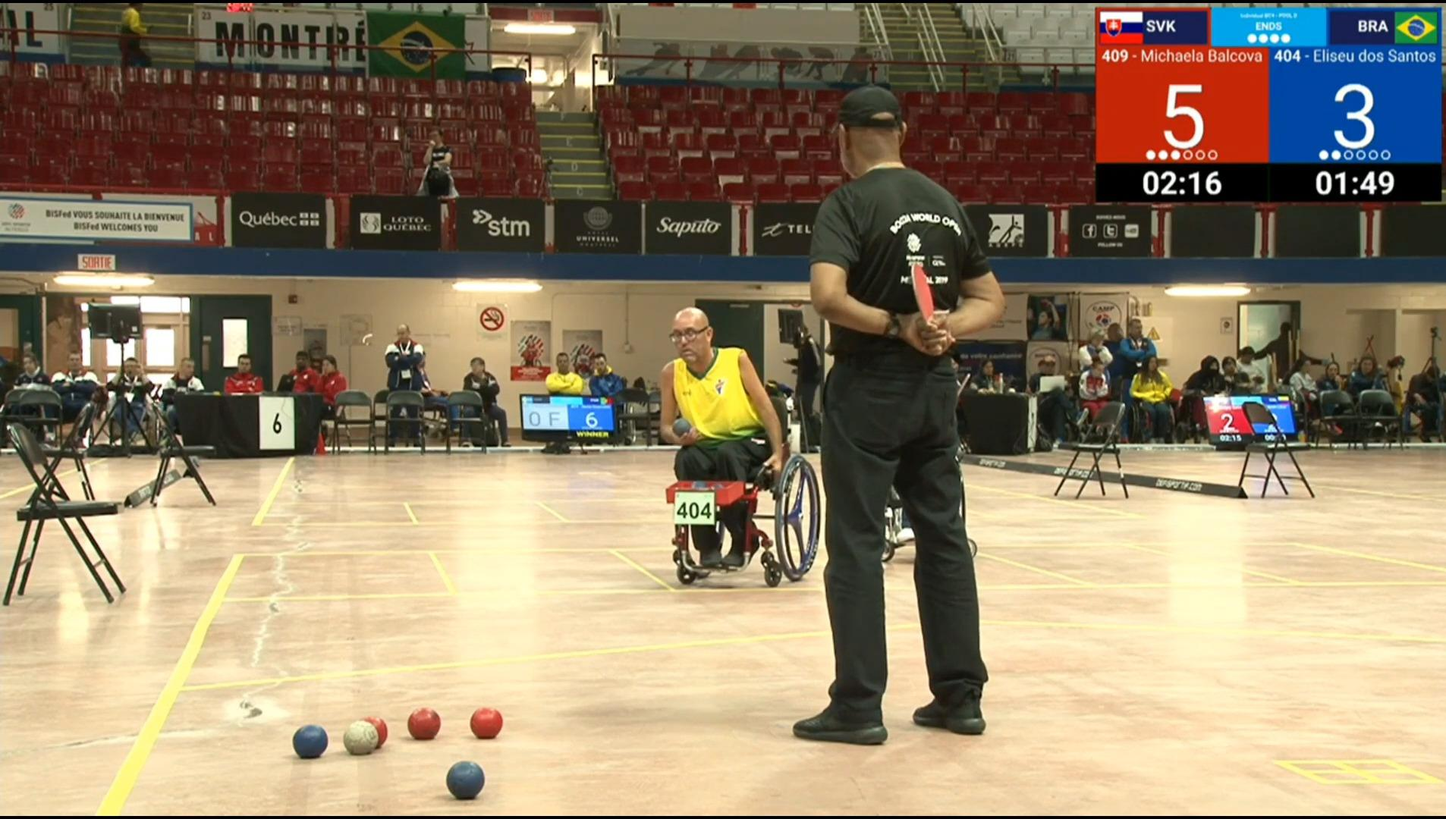blue_ball: (289, 722, 333, 763), (446, 761, 486, 800), (672, 420, 692, 437)
red_ball: (407, 707, 443, 743), (469, 707, 506, 742)
white_ball: (342, 720, 380, 755)
